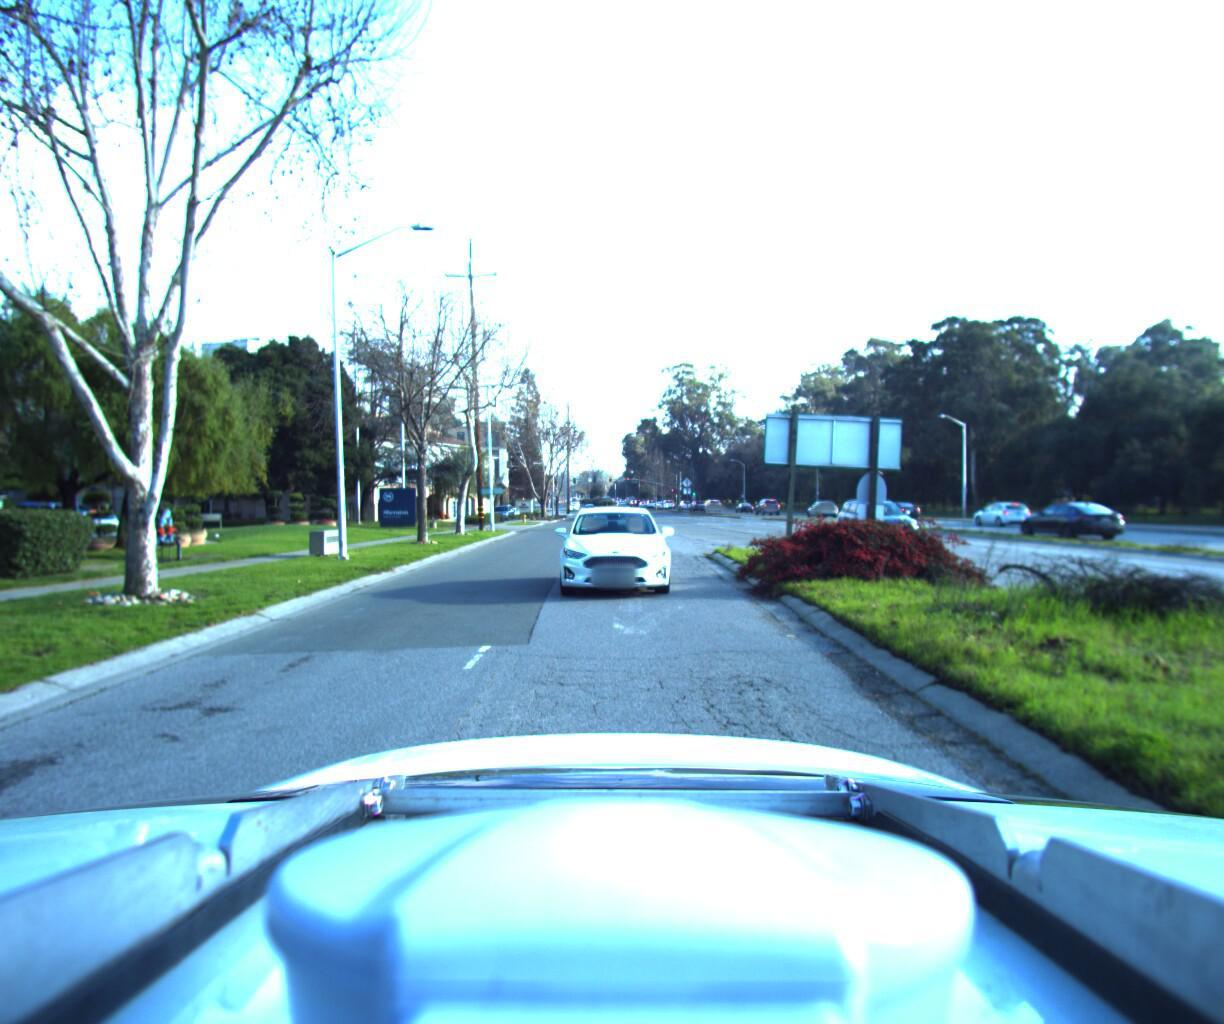car: (554, 502, 666, 606), (845, 492, 948, 546), (994, 499, 1104, 539), (957, 495, 1018, 521), (799, 495, 834, 513)
